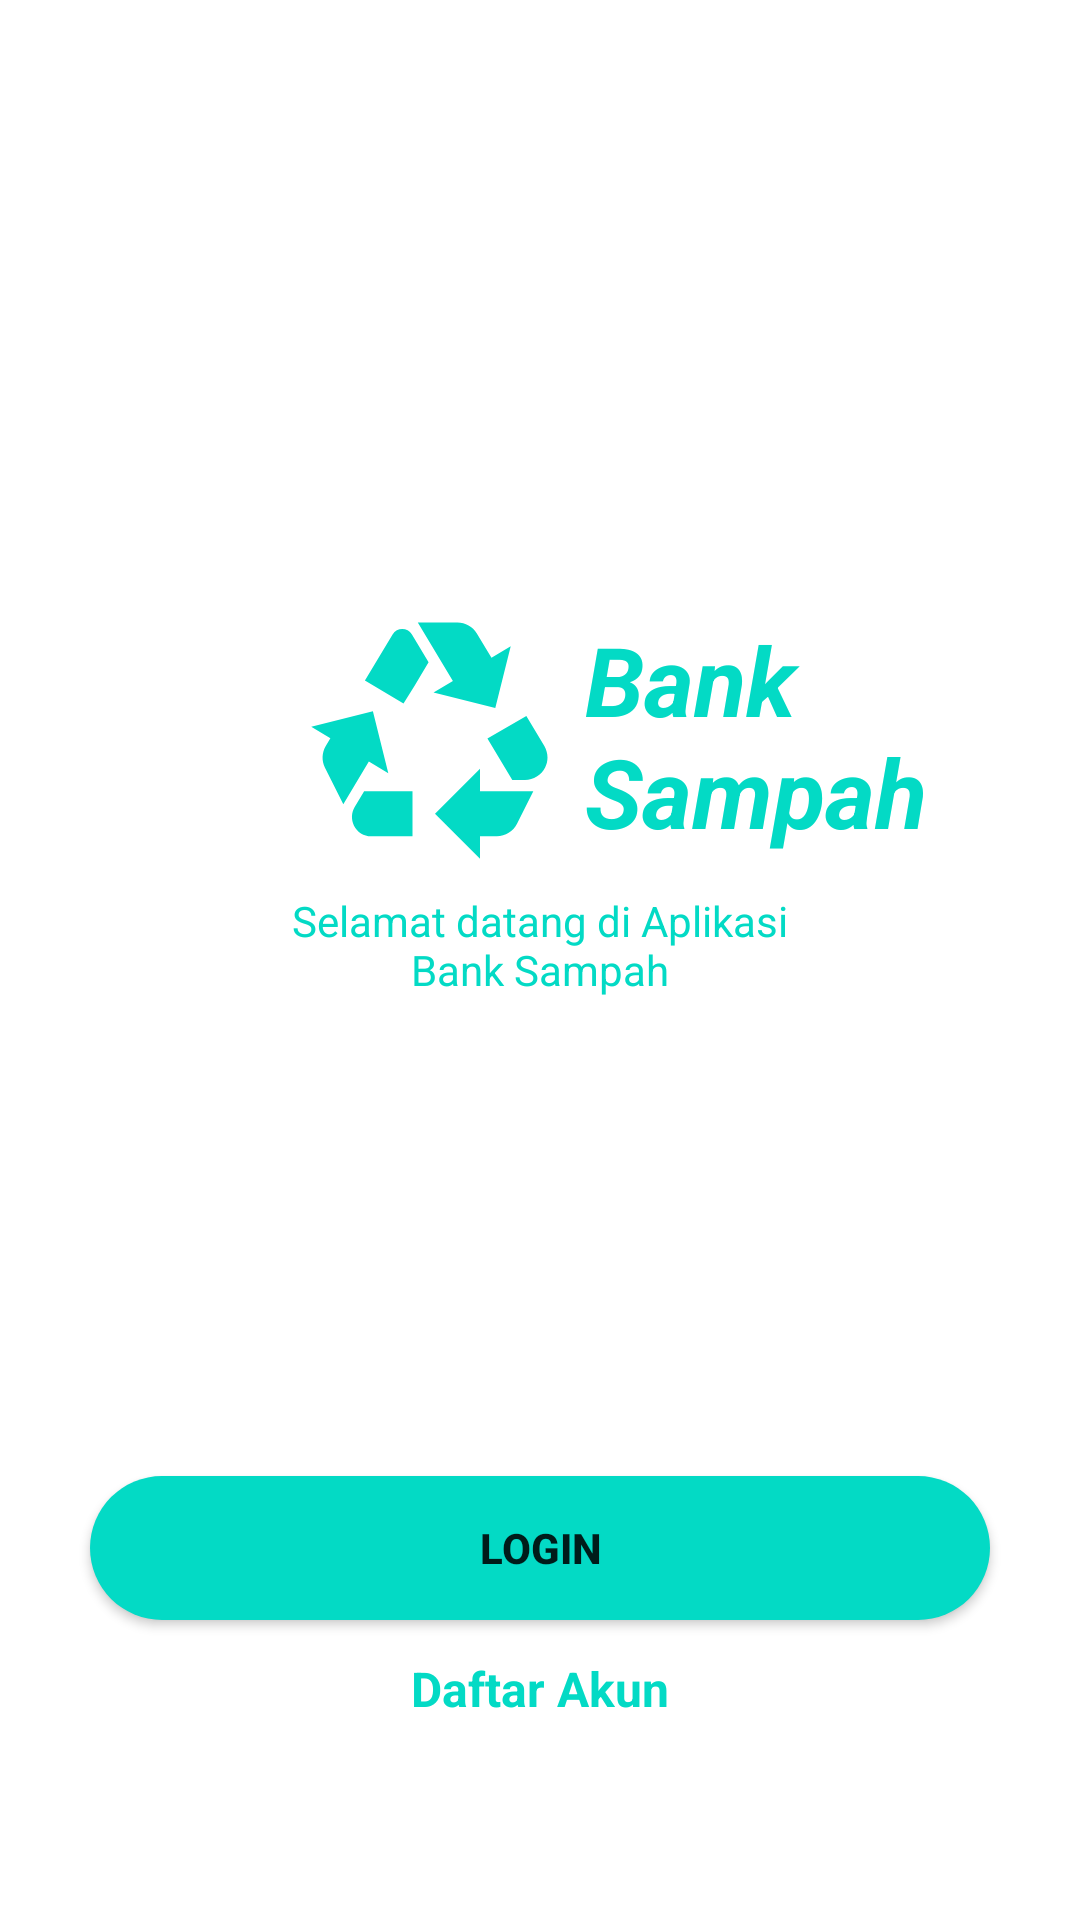

Icons on this 1080 × 1920 Android screen, each with its box as (x1, y1, x2, y2):
recycling: (311, 622, 548, 859)
